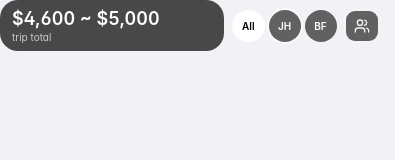
Test: TravellerBar › swaps to a traveller's share when they are selected
This screenshot has width=395, height=160.
Click the button with aria-label "Bruno Fabián" at (320, 26), box [304, 10, 336, 42]
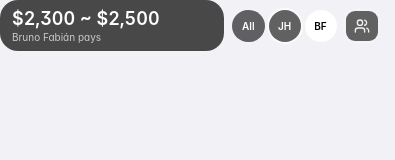
Check: the text "$2,300 ~ $2,500" is shown, box [12, 8, 160, 29]
Check: the text "Bruno Fabián pays" is shown, box [12, 30, 101, 42]
